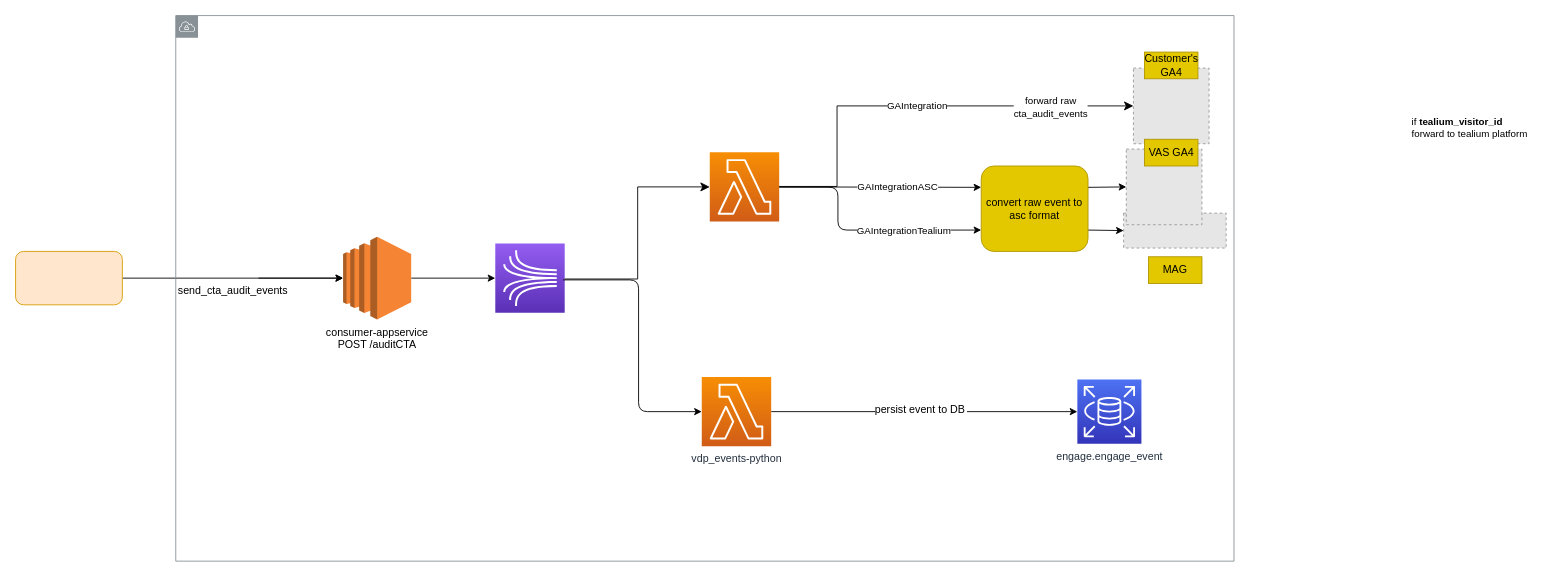
Some shapes in this 1566 by 577 pixel diagram are drawn without their labels. Grey dashed boxes stand in for pictures. Here are the shapes that lost their labels. From the top down, the centre of each, then its label:
the point at 744,186: vdp_ga-python
the point at 68,278: Engage
the point at 529,278: {{env}}-kinesis-consumervdp-cta
